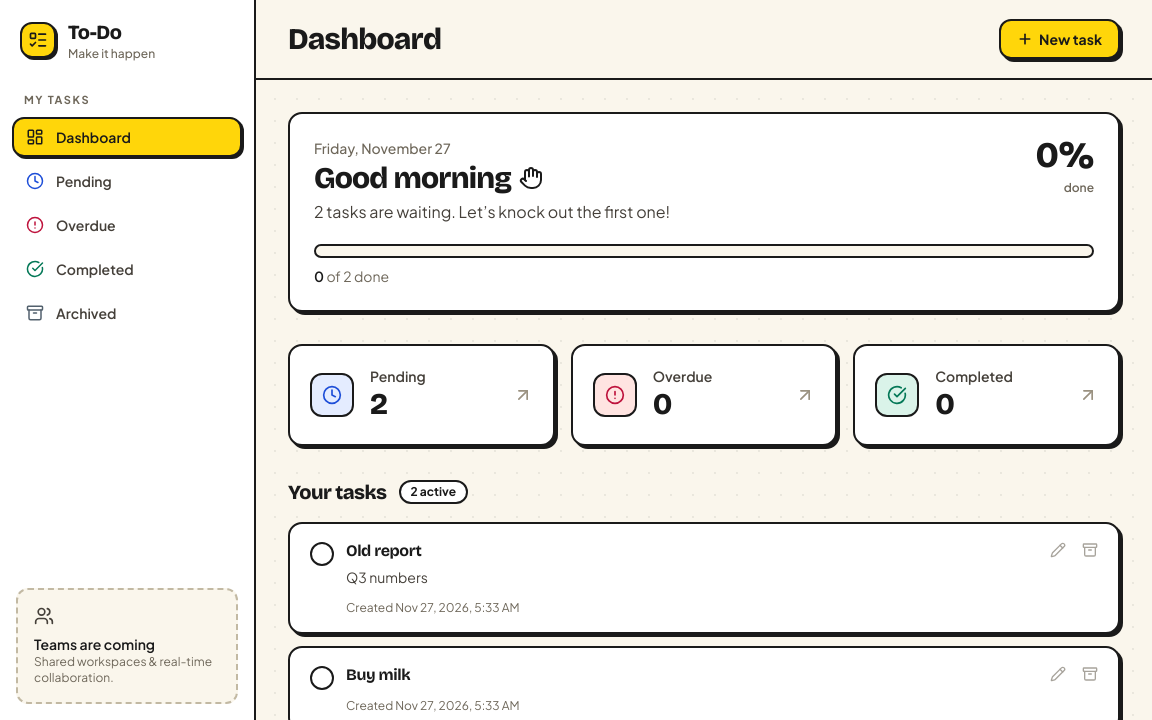
Test: archiving a task › does nothing when cancelled
What coordinates should you click on to do the following:
click the button named "Archive \"Old report\""
I would click on:
 (1090, 550)
Its box is [1074,534,1106,566].
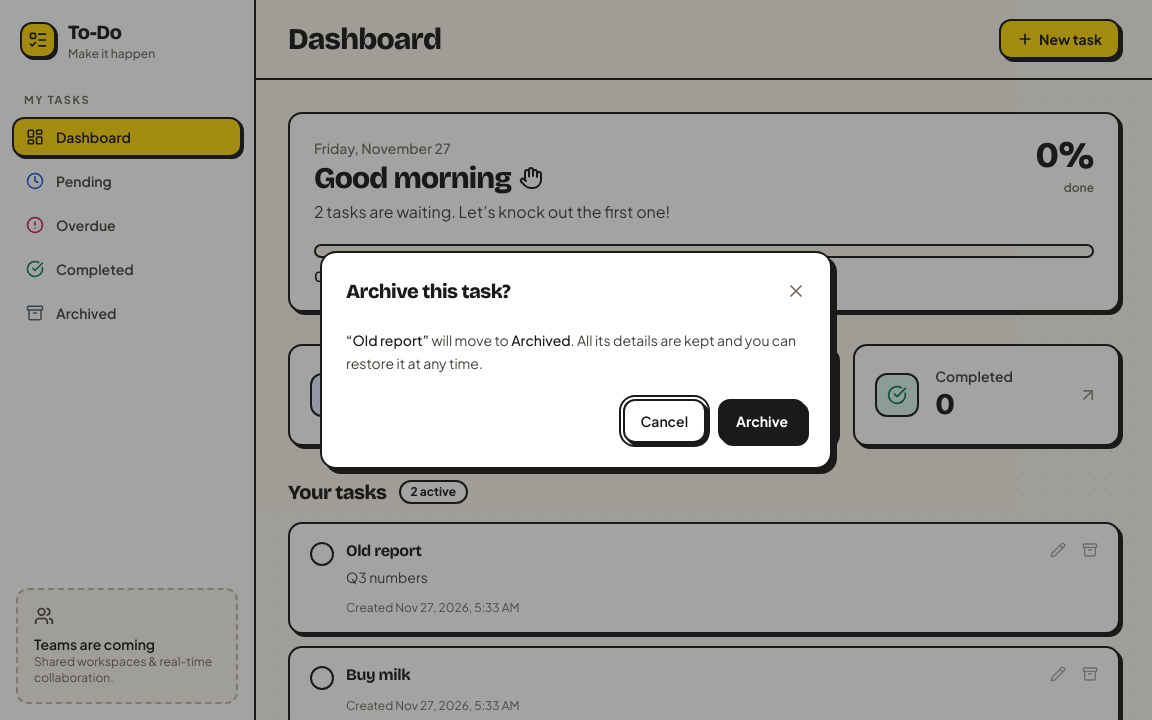
What coordinates should you click on to do the following:
click the button "Cancel"
I would click on:
 (664, 421)
Its box is [623,399,706,443].
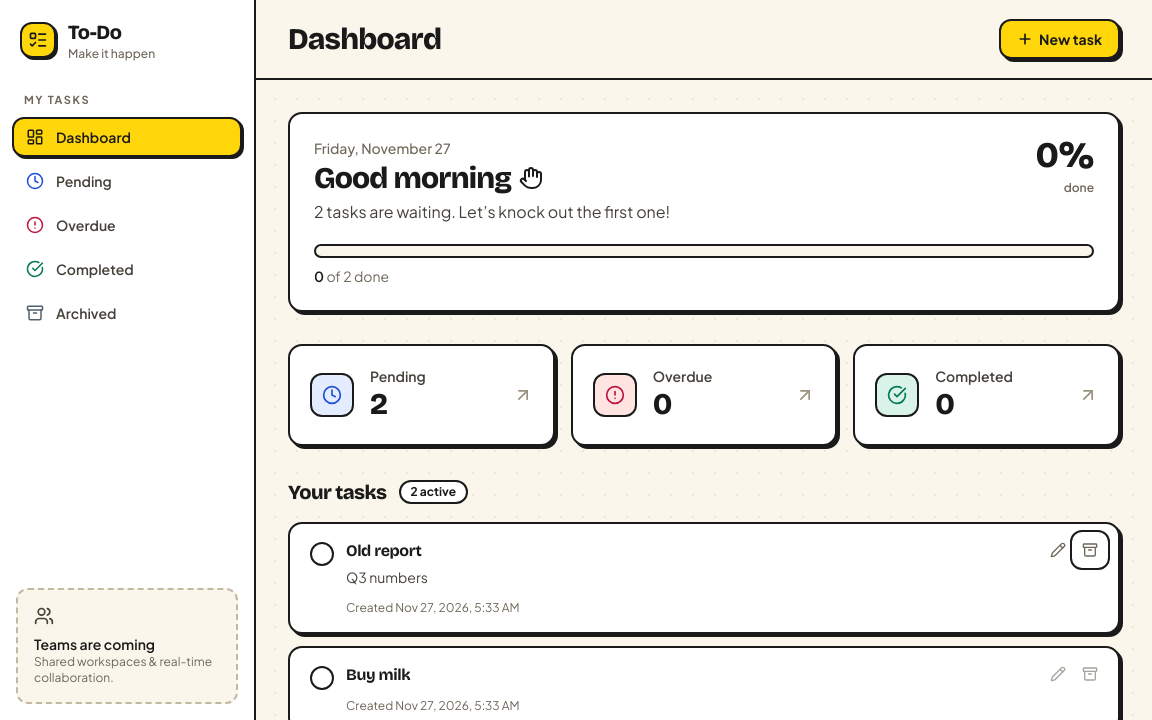
Expected: the heading "Old report" is shown, [346,540,422,560]
Now the dialog is gone
